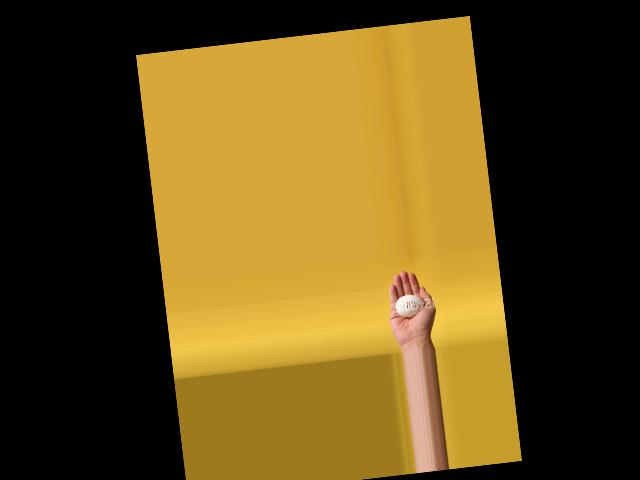egg: (394, 293, 425, 318)
